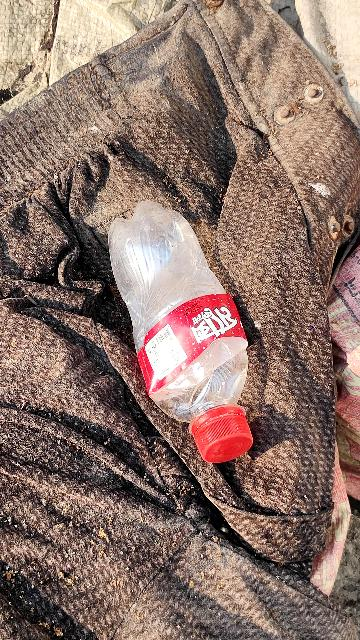bottle: (89, 200, 265, 464), (198, 326, 199, 341)
